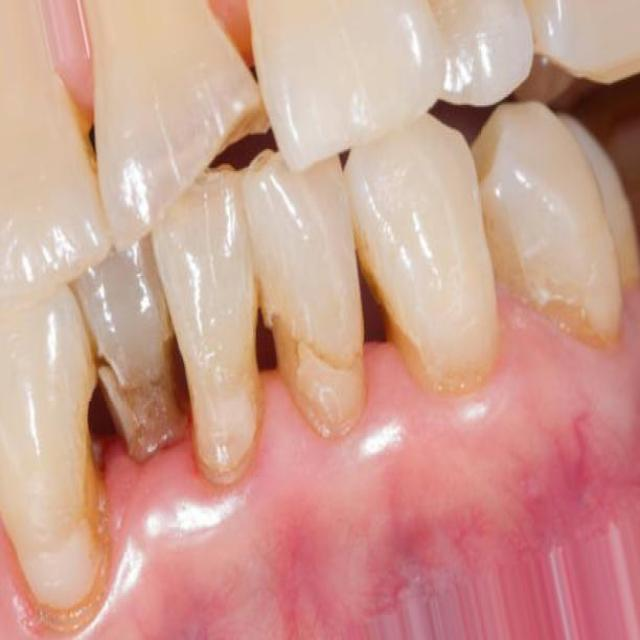caries: (75, 295, 184, 473), (256, 302, 366, 436), (44, 474, 124, 634), (516, 258, 613, 363)
